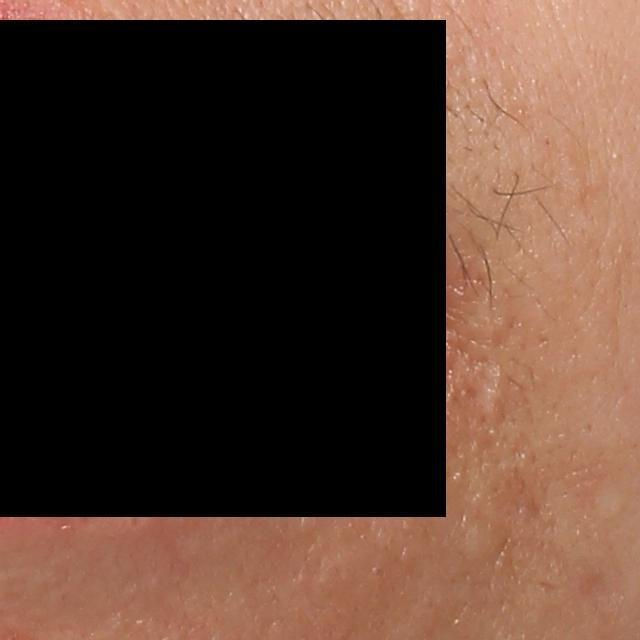hypertrophic_scar: (453, 519, 517, 569), (482, 361, 508, 423)
